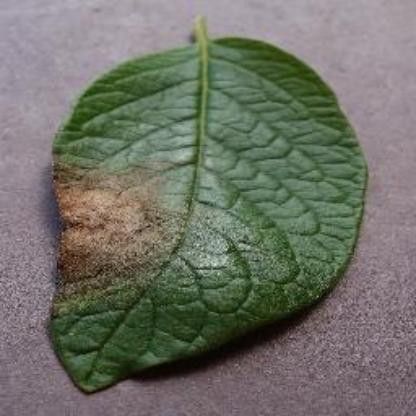Late-Blight: (48, 13, 366, 395)
